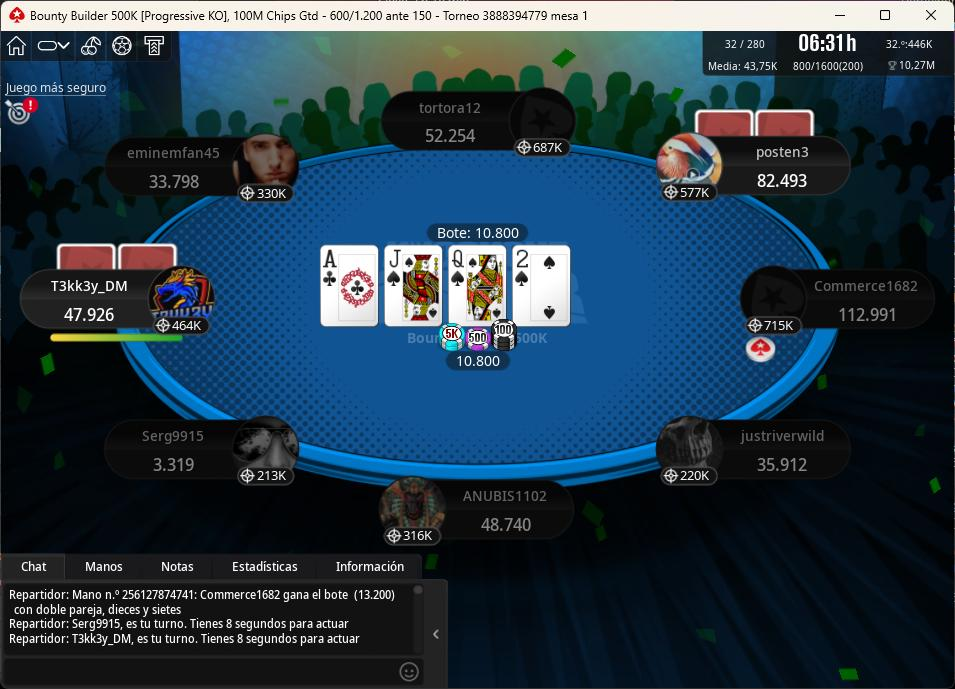HiddenCards: (694, 110, 815, 140), (52, 244, 179, 272)
Player: (374, 476, 574, 545), (105, 416, 303, 485), (107, 131, 301, 201), (20, 268, 218, 336), (653, 417, 850, 485), (741, 267, 944, 332), (655, 133, 850, 199), (385, 91, 581, 155)
PlayerChips: (831, 305, 901, 325), (751, 453, 816, 474), (143, 172, 205, 192), (60, 305, 122, 325), (753, 172, 814, 192), (417, 125, 481, 144), (476, 516, 538, 535), (148, 453, 201, 474)
Pot: (423, 221, 531, 243)
PrincipalPlayer: (374, 476, 575, 545)
PrincipalPlayerChips: (472, 518, 546, 538)
ShowedCards: (319, 242, 576, 332)
ShowedCards1: (319, 245, 384, 332)
ShowedCards2: (383, 246, 447, 330)
ShowedCards3: (444, 241, 509, 326)
ShowedCards4: (513, 246, 574, 331)
SmallBigBlind: (321, 4, 443, 32)
TablePot: (429, 316, 531, 377)
